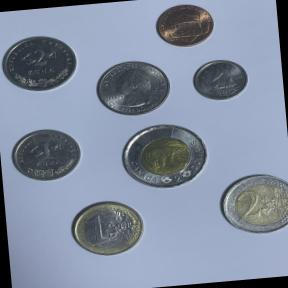coin: (114, 118, 216, 193), (65, 195, 153, 262), (90, 55, 178, 120), (0, 30, 84, 95), (214, 170, 288, 240), (151, 0, 218, 50), (189, 55, 256, 104)
